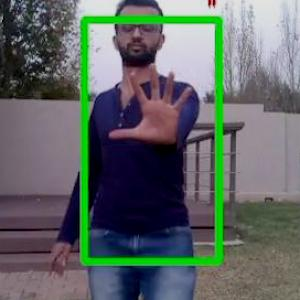follow_hand: (107, 56, 196, 152)
